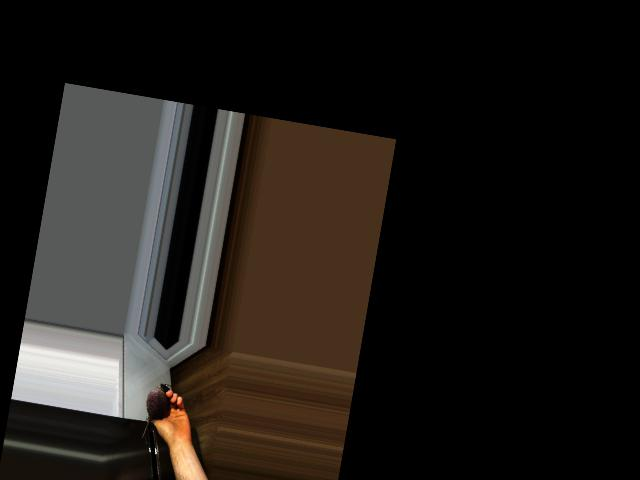beet: (140, 380, 172, 440)
